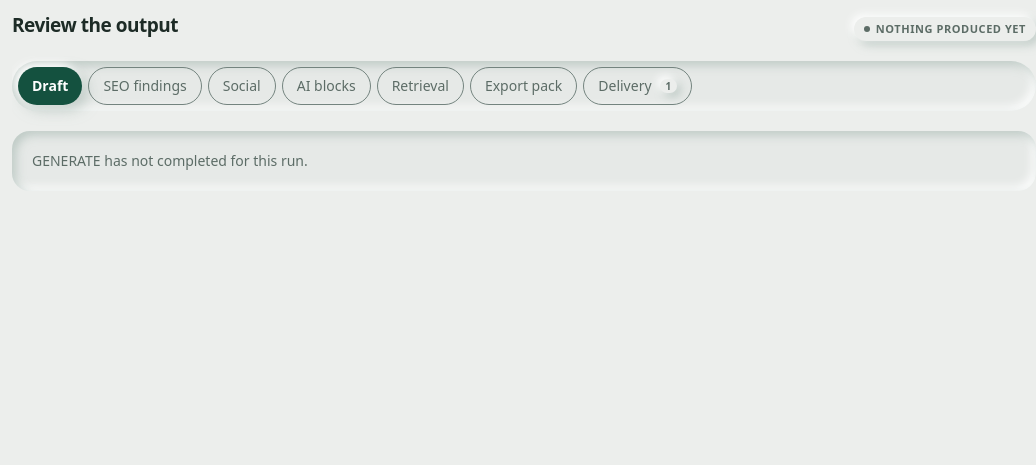
Scenario: Delivery panel › does label a genuinely delivered destination as published
The image size is (1036, 465).
What coordinates should you click on to do the following:
click the tab "Delivery 1"
I would click on:
 (638, 86)
Its box is [583,67,692,105].
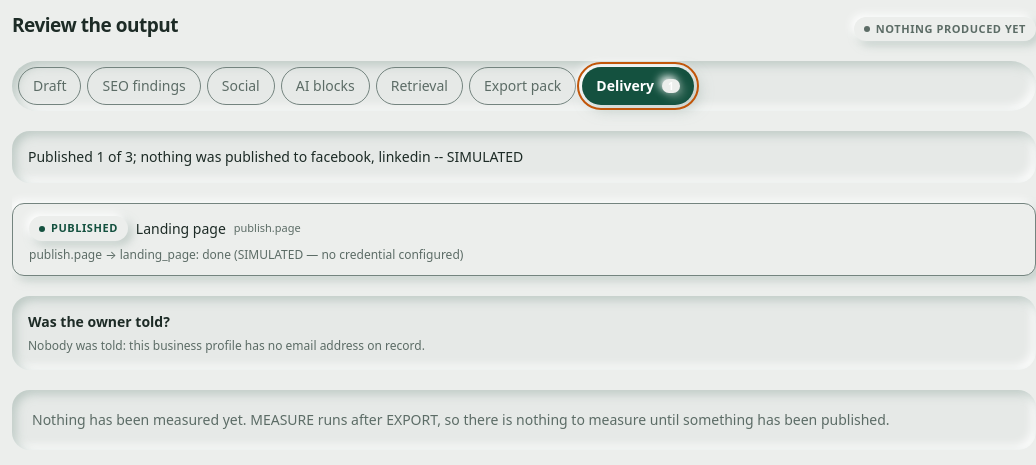
Check: the text "published" is shown, box [29,216,128,241]
